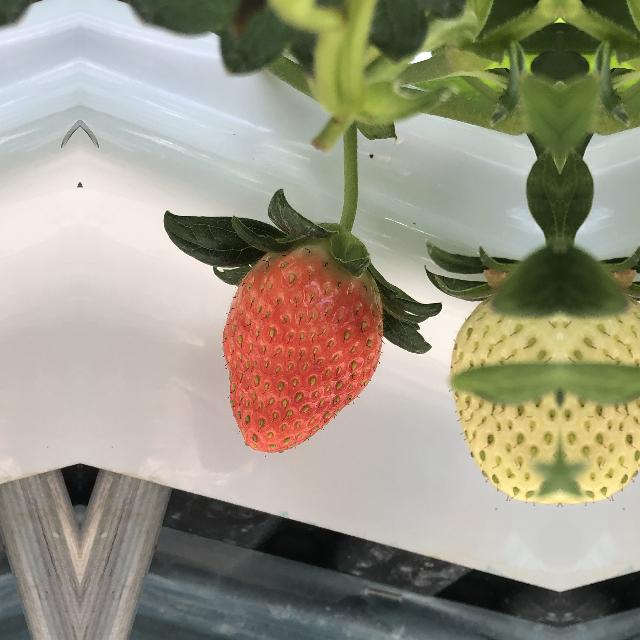Health_100: (215, 224, 382, 460)
Health_25: (446, 266, 560, 510), (560, 266, 640, 510)
